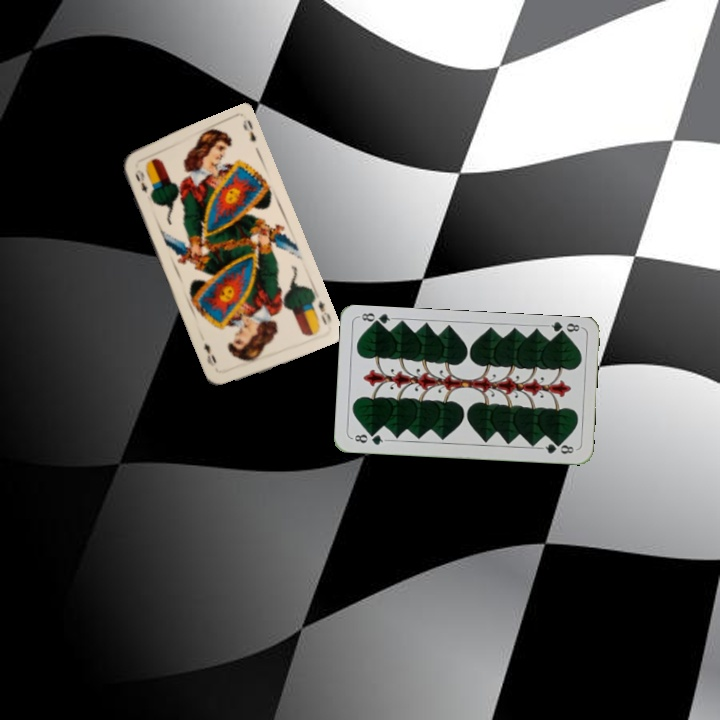EO: (314, 296, 334, 327), (131, 165, 150, 194)
G8: (543, 318, 584, 339), (348, 429, 389, 448)
